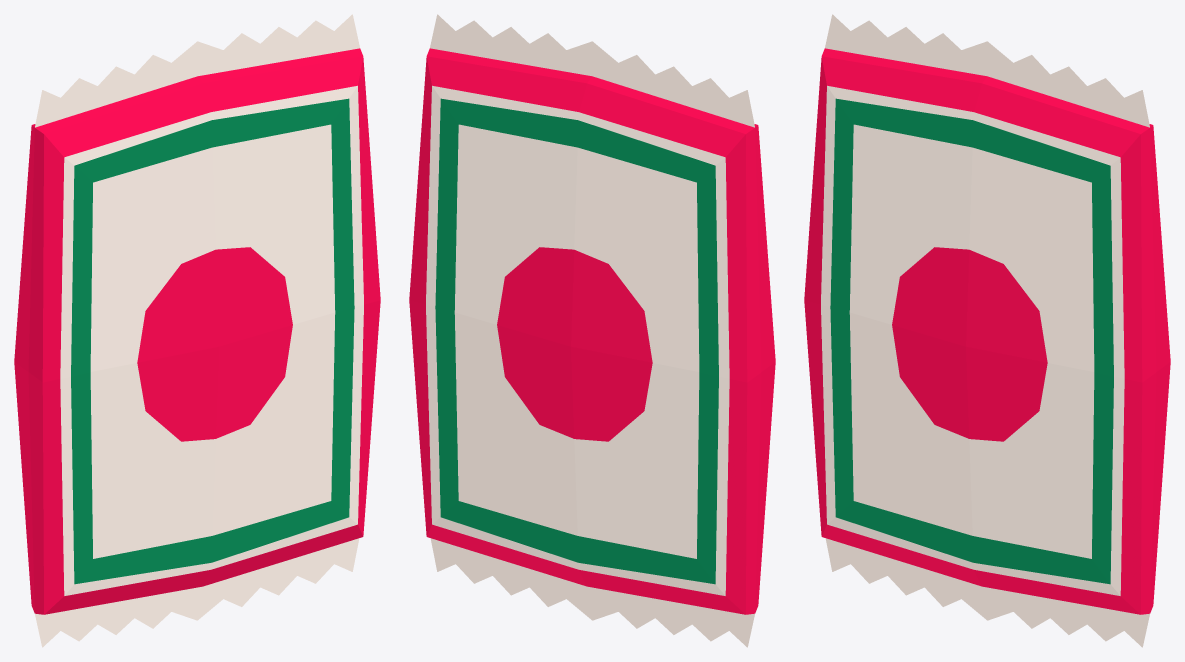
The model's file is ketchup.glb.
3 renders of one model, left to right at view 1: azimuth 30°, elevation 25°; view 2: azimuth 150°, elevation 25°; view 3: azimuth 330°, elevation 25°, orthographic.
Parts seen in each view (by area): view 1: Cube; view 2: Cube; view 3: Cube.
Part boxes in pixels (box(x1,y1,x2,y2)): Cube: box(14, 14, 380, 647); Cube: box(409, 14, 775, 647); Cube: box(804, 14, 1170, 647).
Size of the model in its own units: 0.4744 by 0.7772 by 0.1048.
Materials: 1 (1 with a texture image).
